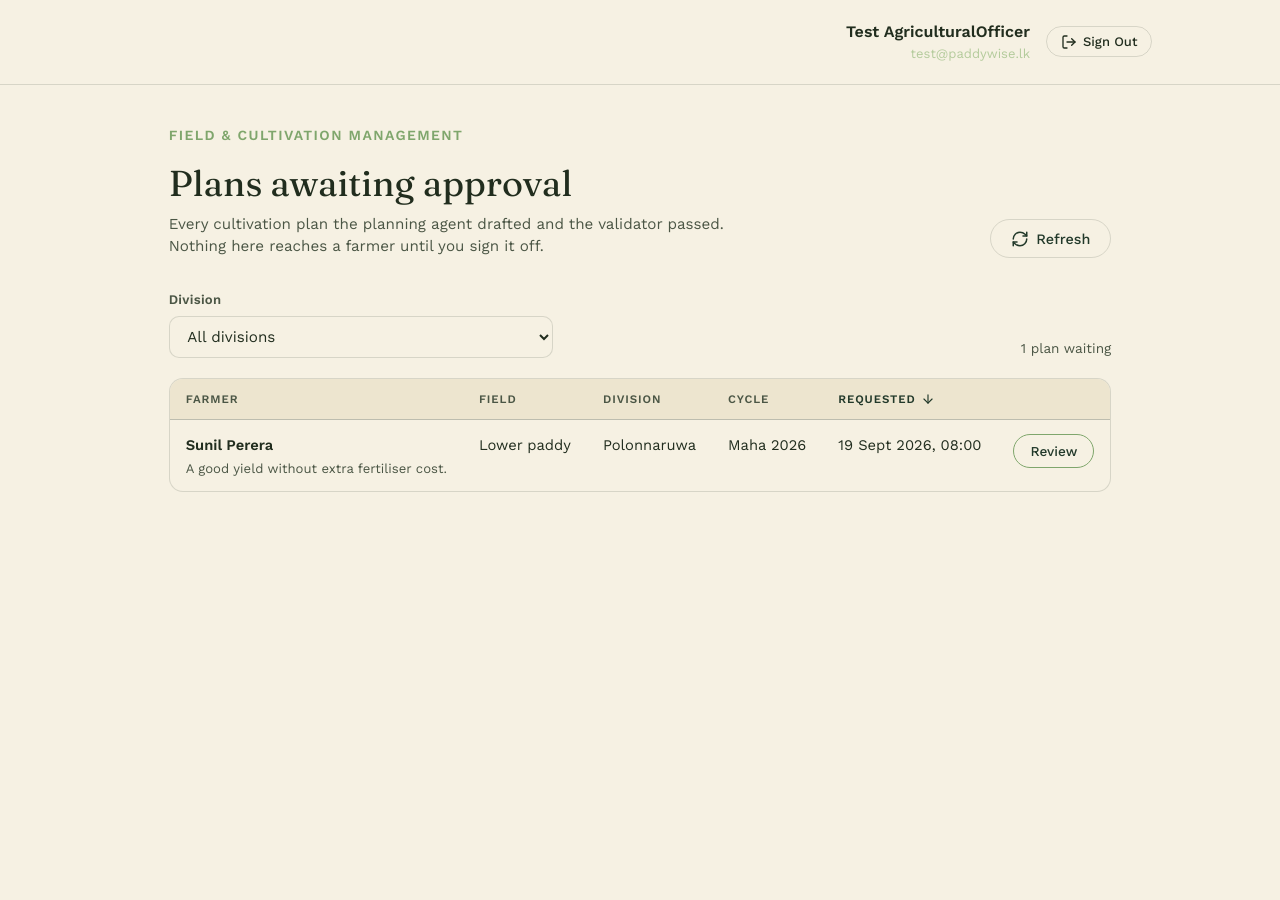
Scenario: PlanApprovalPage › a plan that is no longer pending shows no decision form
Click the button "Review". click: coordinates (1054, 451)
box: [1014,434,1094,468]
(page scrolled)
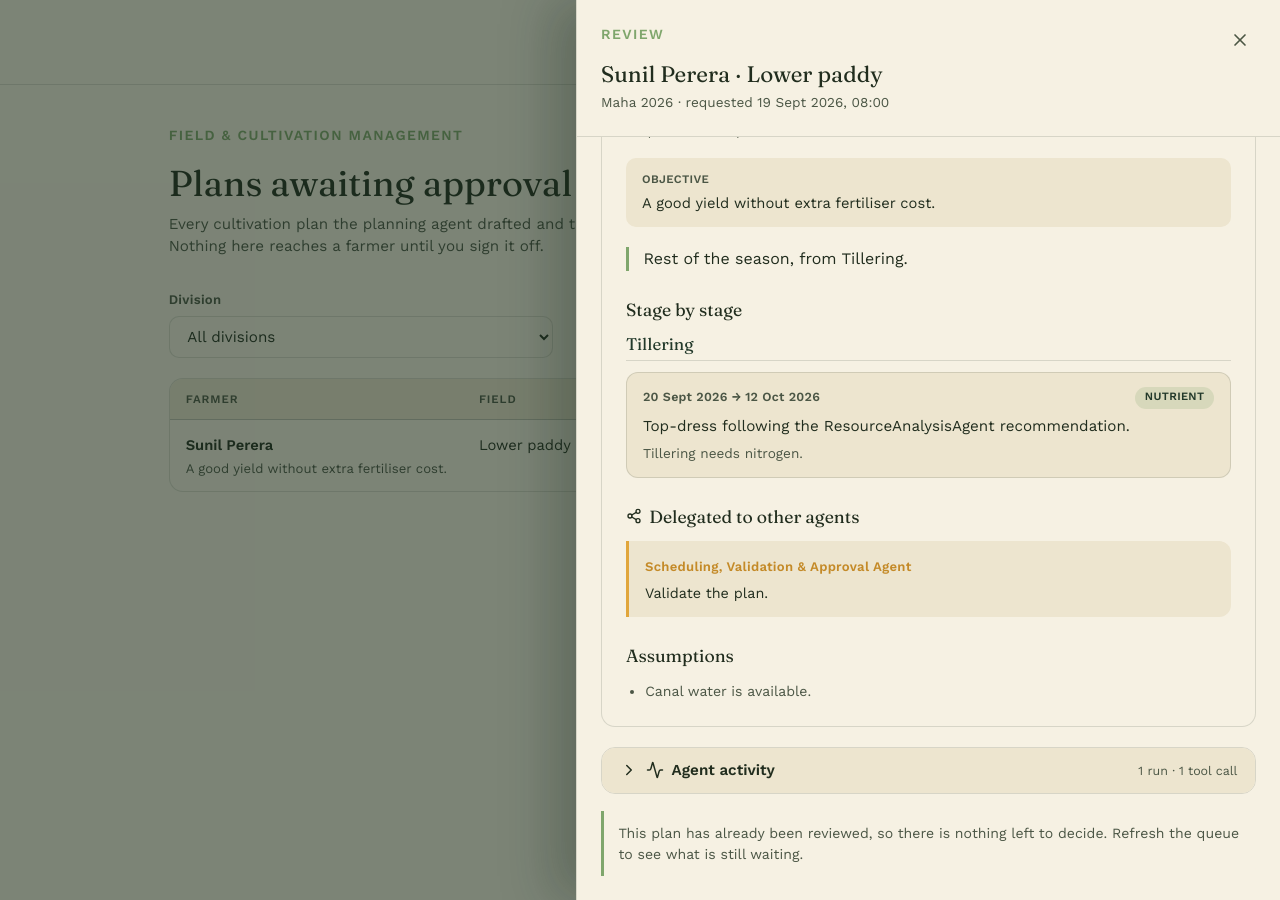
Check: the text "already been reviewed" is shown, box [618,825,1239,862]
